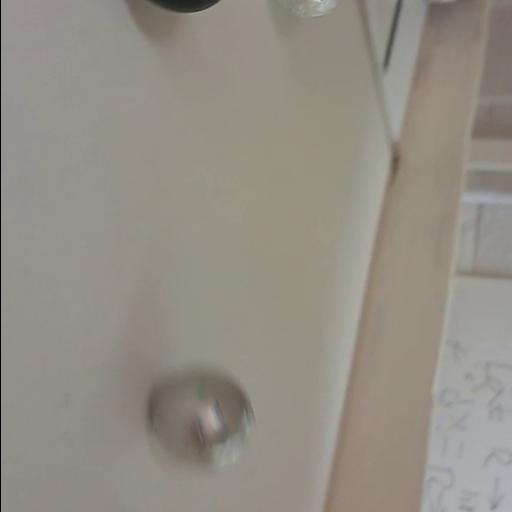alive: (143, 366, 257, 472)
dead: (145, 0, 224, 15)
